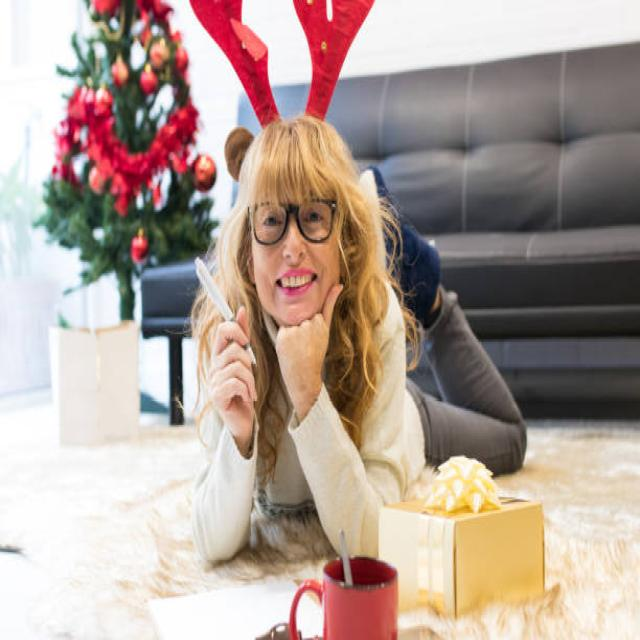Red_cup: (289, 557, 398, 639)
